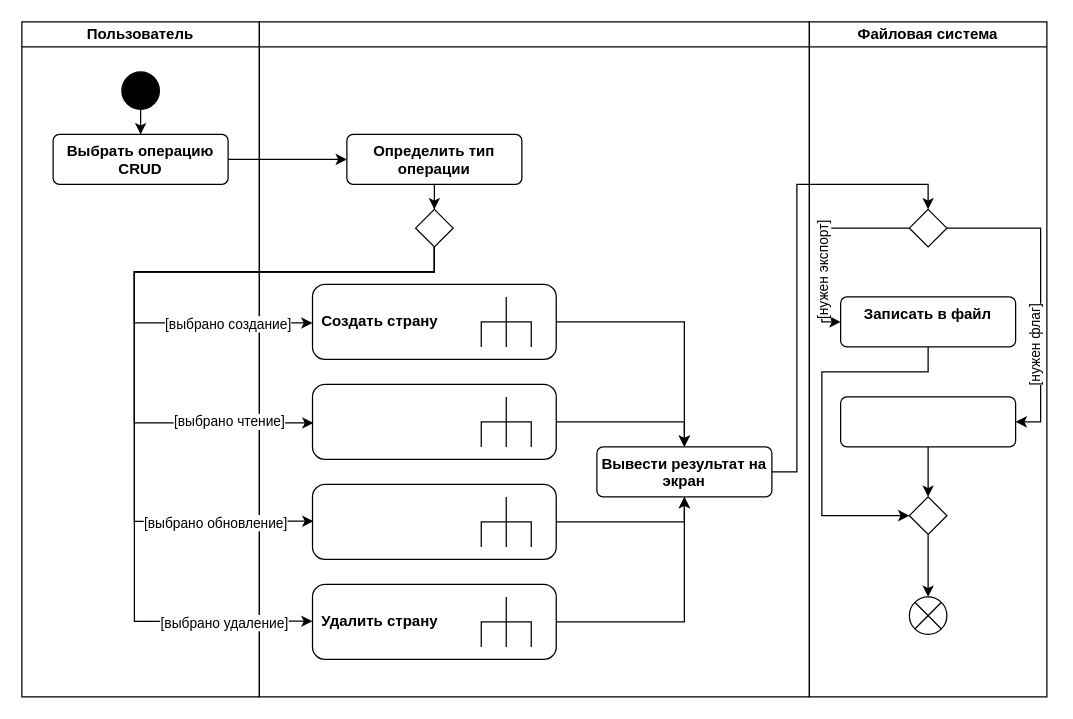
The diagram is 1073 pixels wide and 719 high, and some of its shapes have lost their labels. Each missing label, with the box of its shape:
Обновить страну: (311, 483, 556, 559)
Просмотреть страну: (311, 383, 556, 459)
Прочитать из файла: (839, 396, 1016, 447)
Система: (258, 21, 809, 697)
